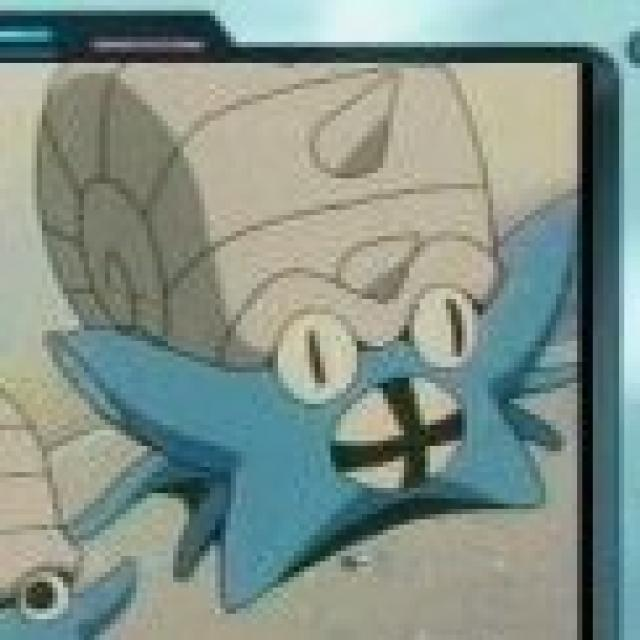Omastar: (44, 63, 558, 548)
